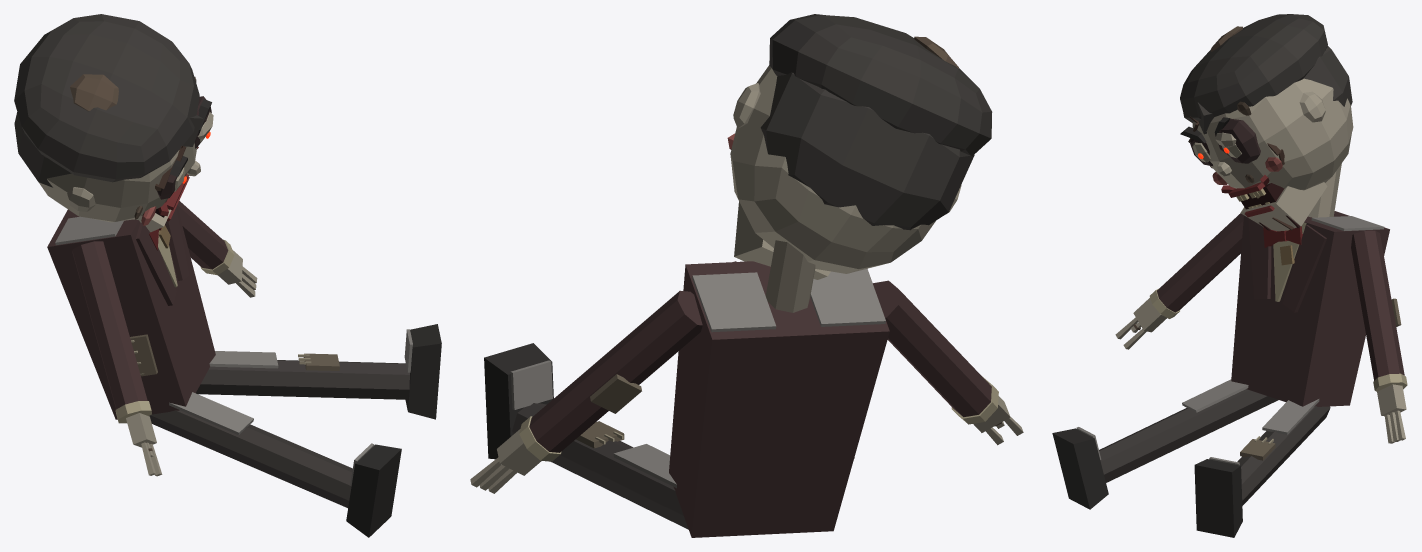
The model's file is muñeco ventriloco.fbx.
3 renders of one model, left to right at view 1: azimuth 30°, elevation 25°; view 2: azimuth 150°, elevation 25°; view 3: azimuth 270°, elevation 25°, orthographic. The views are drawn at different scales.
Parts seen in each view (by area): view 1: polySurface65, polySurface16, polySurface2, polySurface7, polySurface37, polySurface44, polySurface1, polySurface6, polySurface30, polySurface3, polySurface70, polySurface67 (+9 smaller); view 2: polySurface16, polySurface67, polySurface65, polySurface44, polySurface30, polySurface37, polySurface7, polySurface14, polySurface6, polySurface15, polySurface29, polySurface9 (+7 smaller); view 3: polySurface16, polySurface65, polySurface44, polySurface2, polySurface30, polySurface6, polySurface37, polySurface1, polySurface7, polySurface89, polySurface19, polySurface20 (+13 smaller).
Boxes of the visible parts, x1,y1,x2,y2 form: polySurface65: (14,14,199,182); polySurface16: (47,205,215,419); polySurface2: (149,410,352,507); polySurface7: (196,360,409,399); polySurface37: (72,241,147,409); polySurface44: (38,143,197,222); polySurface1: (346,444,401,537); polySurface6: (405,324,441,419); polySurface30: (177,201,228,269); polySurface3: (169,392,253,435); polySurface70: (70,74,118,111); polySurface67: (14,112,71,187); polySurface16: (669,261,889,537); polySurface67: (760,72,974,230); polySurface65: (769,14,992,155); polySurface44: (730,65,935,273); polySurface30: (529,290,702,452); polySurface37: (873,280,991,417); polySurface7: (512,403,688,529); polySurface14: (692,272,776,332); polySurface6: (484,343,553,459); polySurface15: (810,269,885,326); polySurface29: (765,240,815,312); polySurface9: (510,360,552,409); polySurface16: (1231,211,1389,406); polySurface65: (1180,14,1327,122); polySurface44: (1192,78,1353,190); polySurface2: (1099,389,1278,482); polySurface30: (1351,230,1404,380); polySurface6: (1194,459,1242,537); polySurface37: (1157,213,1243,312); polySurface1: (1052,428,1108,509); polySurface7: (1237,406,1330,505); polySurface89: (1240,182,1327,230); polySurface19: (1282,225,1326,312); polySurface20: (1248,218,1271,299).
Bounding box in the file's own units: 35.68 × 39.41 × 30.85.
